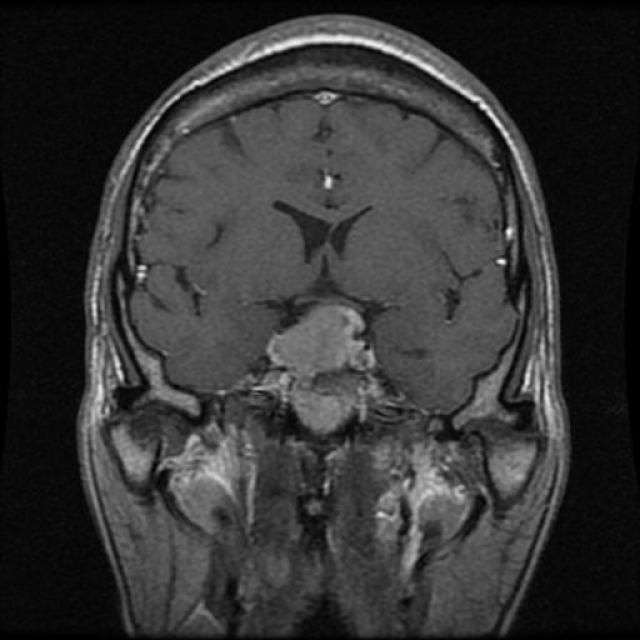pituitary: (260, 292, 394, 444)
